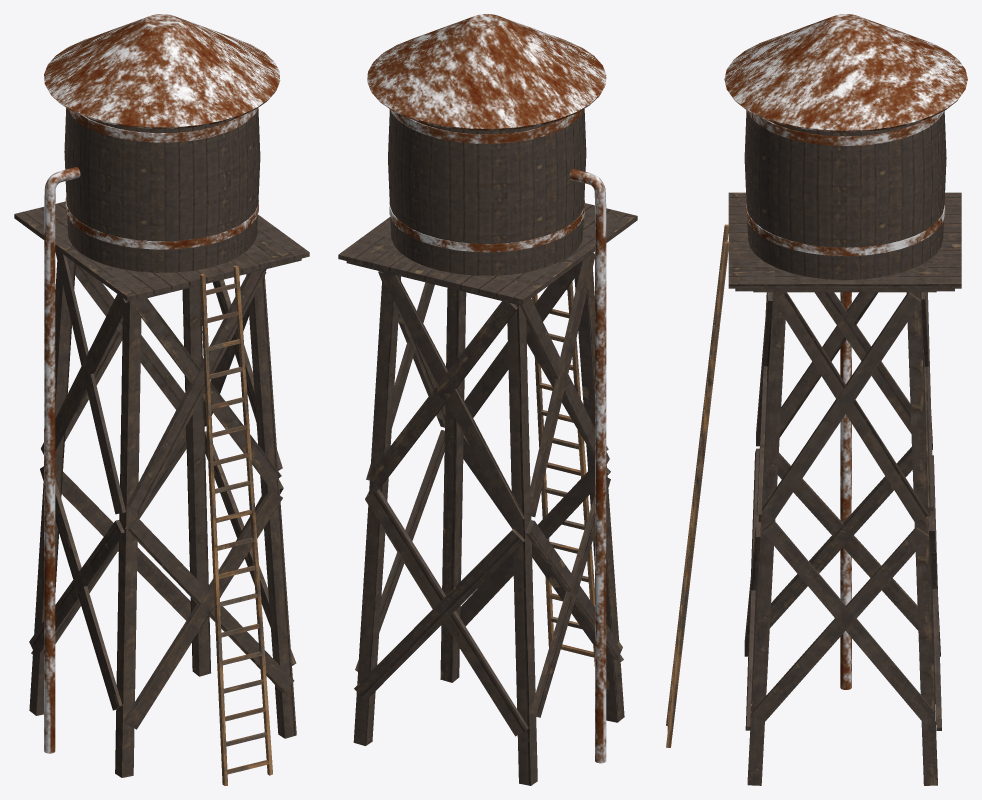
The model's file is water_tower.glb.
3 views of the same model, side by side, from view 1: azimuth 30°, elevation 25°; view 2: azimuth 150°, elevation 25°; view 3: azimuth 270°, elevation 25° (orthographic). The views are drawn at different scales.
Visible parts, largest first — view 1: Water_tower; view 2: Water_tower; view 3: Water_tower.
Part boxes in pixels (<box>): Water_tower: <box>14,14,309,785</box>; Water_tower: <box>338,14,637,785</box>; Water_tower: <box>666,14,967,785</box>.
Size of the model in its own units: 2.6 by 7.94 by 3.01.
1 material, 1 textured.
